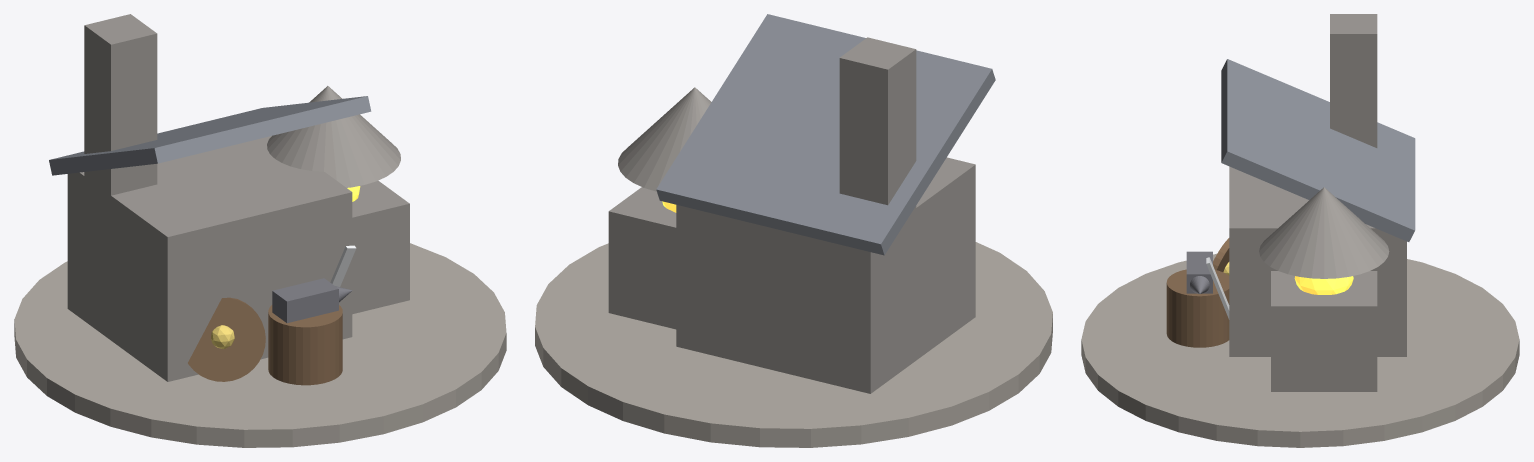
The model's file is building_workshop.glb.
The picture shows the model from 3 angles, left to right: view 1: azimuth 30°, elevation 25°; view 2: azimuth 150°, elevation 25°; view 3: azimuth 270°, elevation 25°; orthographic projection. The views are drawn at different scales.
Parts seen in each view (by area): view 1: Cylinder, Cube, Cube.002, Cube.001, Cube.003, Cone, Cylinder.001, Cylinder.002, Cube.004, Cube.005; view 2: Cylinder, Cube, Cube.001, Cube.002, Cube.003, Cone; view 3: Cylinder, Cube.001, Cube, Cube.003, Cone, Cube.002, Cylinder.001, Icosphere, Cube.004.
Part boxes in pixels (x1,y1,x2,y2): Cylinder: (14, 243, 506, 447); Cube: (67, 136, 352, 381); Cube.002: (84, 14, 157, 201); Cube.001: (49, 96, 371, 175); Cube.003: (352, 180, 409, 314); Cone: (267, 86, 400, 187); Cylinder.001: (268, 305, 342, 385); Cylinder.002: (188, 297, 265, 381); Cube.004: (272, 278, 338, 323); Cube.005: (330, 245, 356, 286); Cylinder: (535, 242, 1052, 447); Cube: (676, 157, 975, 393); Cube.001: (656, 14, 995, 255); Cube.002: (839, 37, 916, 221); Cube.003: (608, 187, 676, 329); Cone: (618, 87, 711, 191); Cylinder: (1081, 253, 1519, 447); Cube.001: (1221, 59, 1415, 241); Cube: (1229, 166, 1406, 356); Cube.003: (1271, 271, 1377, 391); Cone: (1259, 187, 1389, 278); Cube.002: (1330, 14, 1377, 147); Cylinder.001: (1166, 269, 1229, 347); Icosphere: (1294, 276, 1353, 294); Cube.004: (1186, 251, 1212, 293).
Size of the model in its own units: 3.7 by 2.65 by 3.7.
